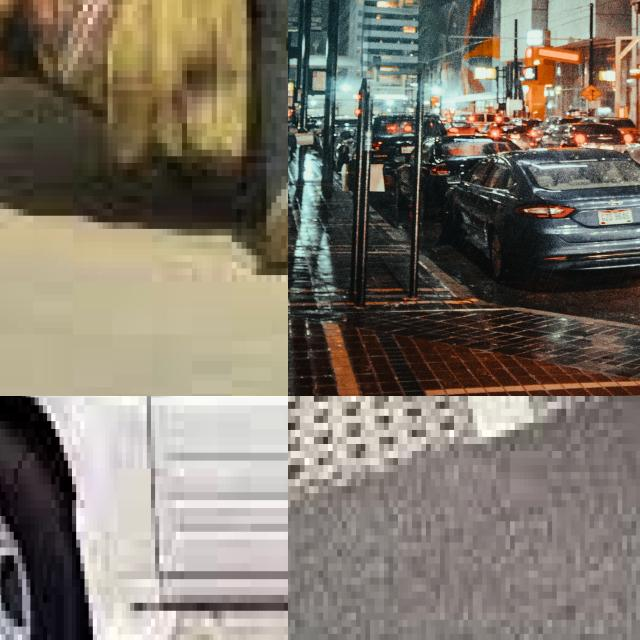bike: (192, 0, 288, 295), (346, 396, 640, 465)
car: (0, 396, 288, 640), (440, 137, 640, 298), (558, 115, 640, 152), (629, 127, 640, 184)
